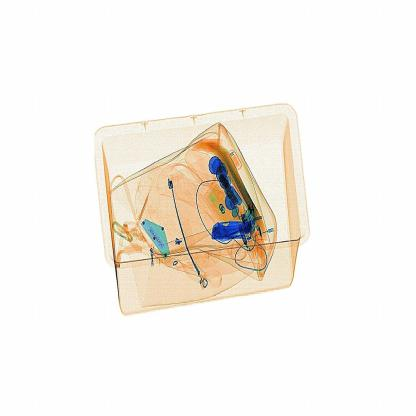knife: (210, 215, 262, 248)
